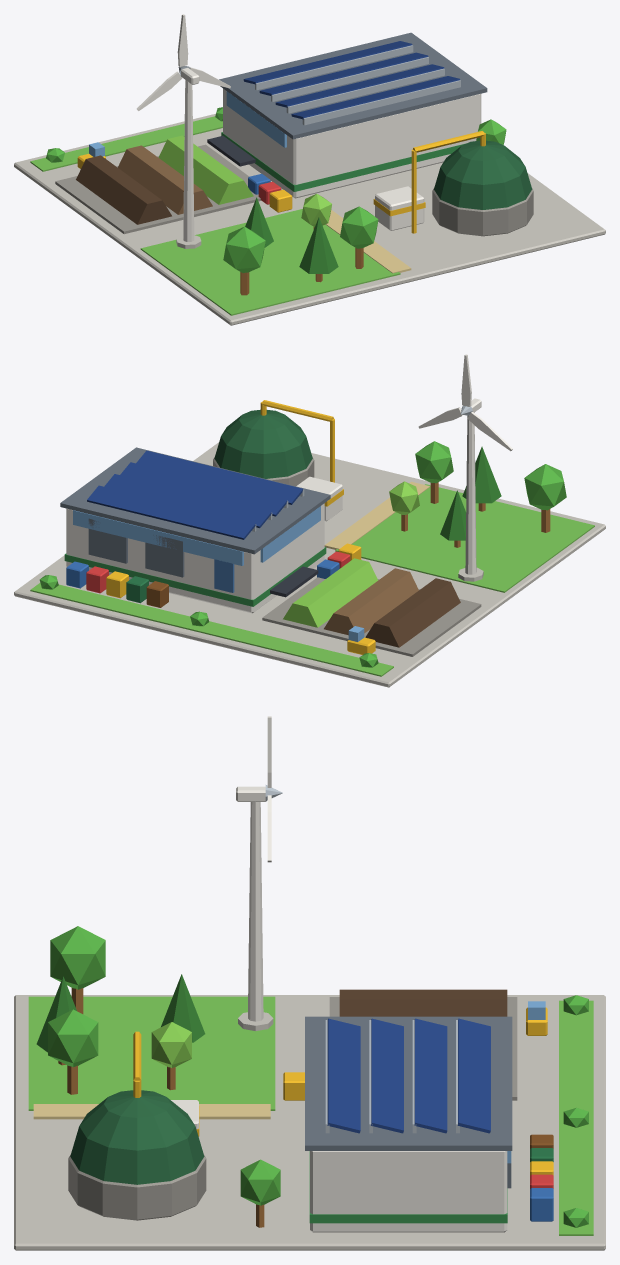
Rendered from ecopark.glb.
The picture shows the model from 3 angles, top to bottom: view 1: azimuth 30°, elevation 25°; view 2: azimuth 150°, elevation 25°; view 3: azimuth 270°, elevation 25°; orthographic projection. The views are drawn at different scales.
Visible parts, largest first — view 1: corpo, pas_1.001; view 2: corpo, pas_1.001; view 3: corpo, pas_1.001.
Boxes of the visible parts, bbox=[...] form: corpo: bbox=[14, 32, 605, 325]; pas_1.001: bbox=[136, 14, 230, 110]; corpo: bbox=[14, 398, 605, 687]; pas_1.001: bbox=[418, 354, 512, 451]; corpo: bbox=[14, 786, 605, 1250]; pas_1.001: bbox=[265, 716, 282, 862].
Bounding box in the file's own units: 6 × 3.53 × 6.
